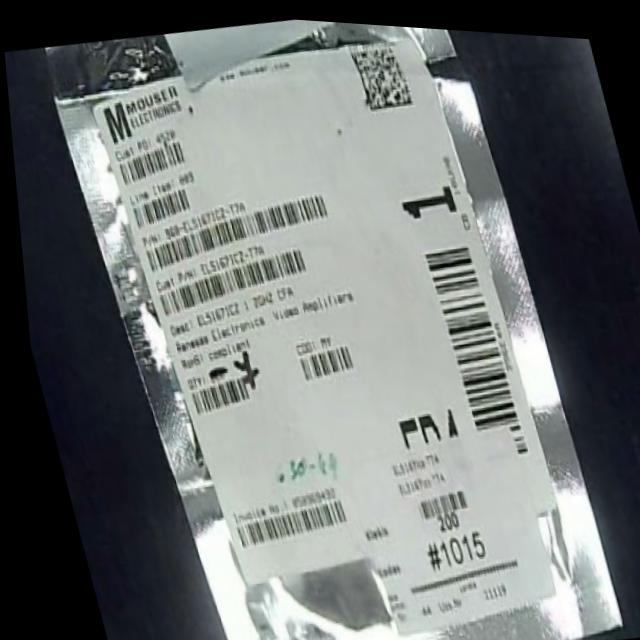datamatrix: (345, 25, 418, 112)
